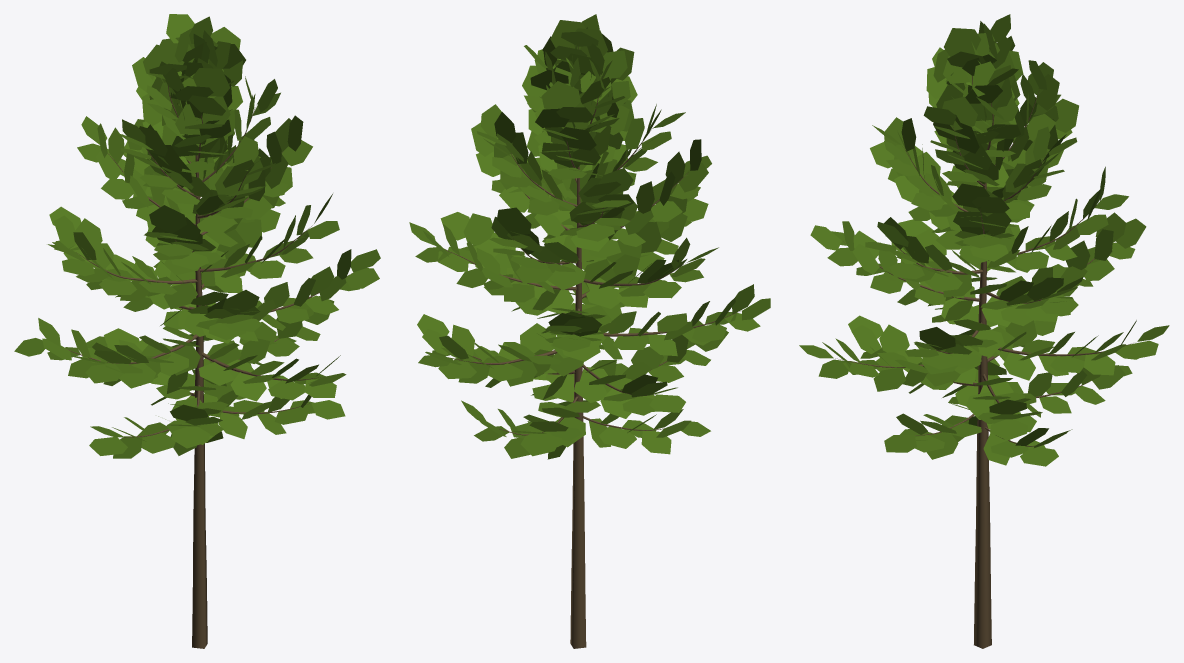
Rendered from BlenderTree.fbx.
The picture shows the model from 3 angles, left to right: view 1: azimuth 30°, elevation 25°; view 2: azimuth 150°, elevation 25°; view 3: azimuth 270°, elevation 25°; orthographic projection.
Parts seen in each view (by area): view 1: leaves; view 2: leaves; view 3: leaves.
Boxes of the visible parts, bbox=[...] form: leaves: bbox=[14, 14, 380, 648]; leaves: bbox=[409, 14, 770, 648]; leaves: bbox=[799, 14, 1169, 648].
Size of the model in its own units: 9.54 by 18.05 by 9.74.
